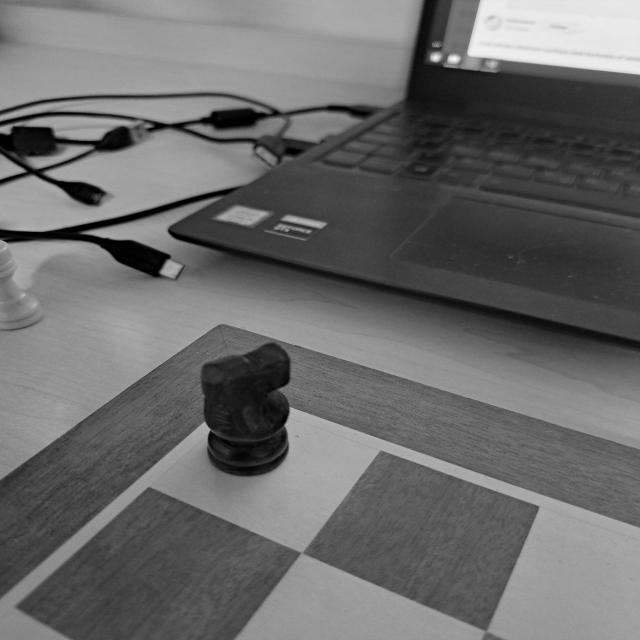chess-table-corners: (154, 384, 356, 452)
